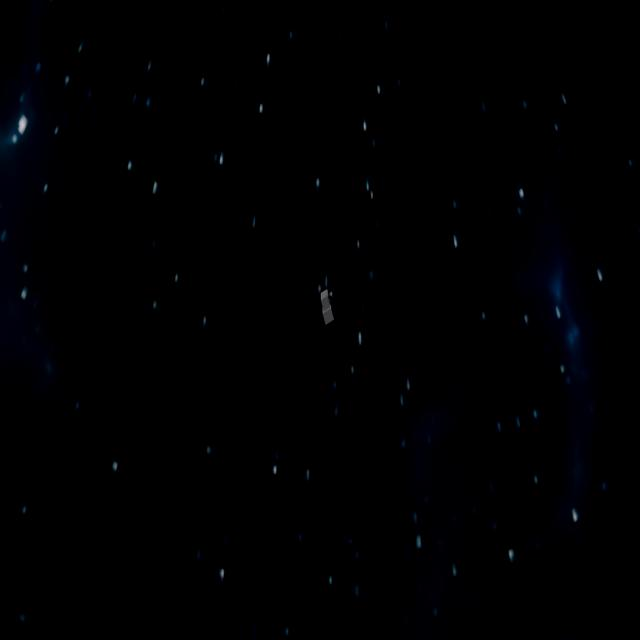large_debris: (318, 284, 337, 330)
